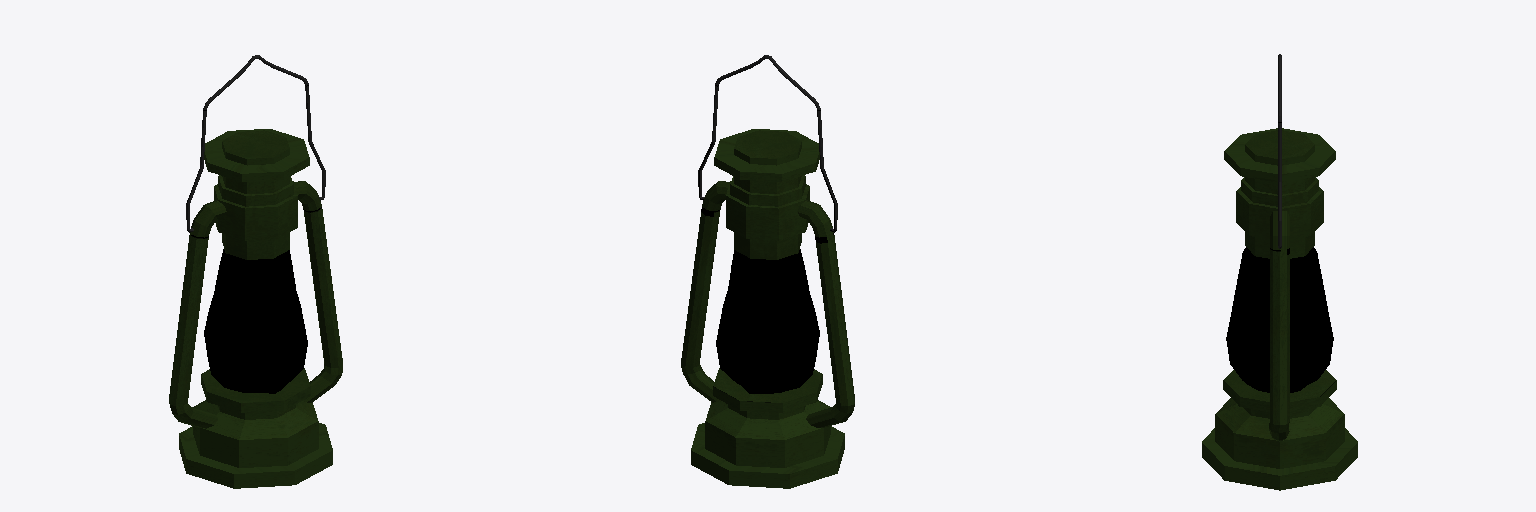
The picture shows the model from 3 angles: view 1: azimuth 30°, elevation 25°; view 2: azimuth 150°, elevation 25°; view 3: azimuth 270°, elevation 25°; orthographic projection.
Visible parts, largest first — view 1: lamp; view 2: lamp; view 3: lamp.
Part boxes in pixels (bbox=[...]): lamp: bbox=[169, 55, 342, 488]; lamp: bbox=[681, 55, 854, 488]; lamp: bbox=[1202, 54, 1357, 490].
Bounding box in the file's own units: 1.71 × 3.79 × 1.34.
3 materials, 1 textured.